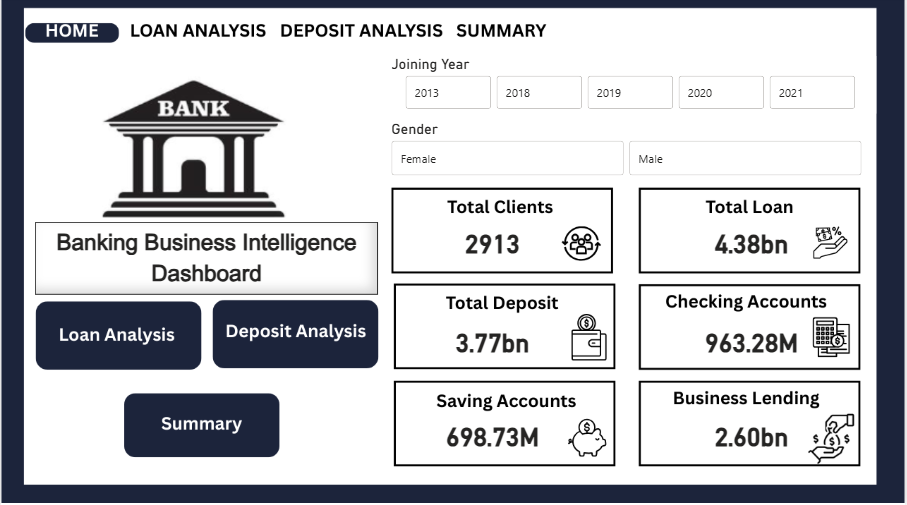

This screenshot's page, from the dashboard's own definition file:
{"tool":"powerbi","page":{"name":"Home","canvas":[1280,720],"ordinal":0},"visuals":[{"type":"card","fields":{"Values":["Count(Banking_Clients.Name)"]},"box":[624.9,319.2,142.8,55.4],"z":0},{"type":"card","fields":{"Values":["Banking_Clients.Total loan"]},"box":[992.8,319.2,142.8,55.4],"z":1000},{"type":"card","fields":{"Values":["Banking_Clients.Total deposit"]},"box":[624.9,458.6,142.8,55.4],"z":2000},{"type":"advancedSlicerVisual","title":"Gender","fields":{"Values":["Banking_Clients.GenderId"]},"box":[548.5,175.7,677.5,82.2],"z":3000},{"type":"advancedSlicerVisual","title":"Joining Year","fields":{"Values":["Banking_Clients.Year of joining"]},"box":[548.5,83.6,691.7,80.8],"z":4000},{"type":"card","fields":{"Values":["Sum(Banking_Clients.Saving Accounts)"]},"box":[624.9,593,142.8,55.4],"z":5000},{"type":"card","fields":{"Values":["Sum(Banking_Clients.Checking Accounts)"]},"box":[992.8,458.6,142.8,55.4],"z":6000},{"type":"card","fields":{"Values":["Sum(Banking_Clients.Business Lending)"]},"box":[992.8,593,142.8,55.4],"z":7000},{"type":"actionButton","box":[48.7,443.5,231.8,70.6],"z":8000},{"type":"actionButton","box":[302.4,443.5,231.8,70.6],"z":9000},{"type":"actionButton","box":[173,557.7,215,90.7],"z":10000},{"type":"actionButton","box":[172.9,24.1,215.4,48.2],"z":11000},{"type":"actionButton","box":[388.3,24.1,236.7,38.3],"z":12000},{"type":"actionButton","box":[640.6,24.1,153.1,48.2],"z":13000},{"type":"textbox","box":[48.2,318.9,486.1,103.5],"z":13001}]}

Visuals, with their boxes in screenshot pixels (x1, y1, x2, y2), scaled from the page's 1280x720 canvas onto the 907x505 screenshot:
card - Count(Banking_Clients.Name): (x1=443, y1=224, x2=544, y2=263)
card - Banking_Clients.Total loan: (x1=703, y1=224, x2=805, y2=263)
card - Banking_Clients.Total deposit: (x1=443, y1=322, x2=544, y2=361)
"Gender" advancedSlicerVisual: (x1=389, y1=123, x2=869, y2=181)
"Joining Year" advancedSlicerVisual: (x1=389, y1=59, x2=879, y2=115)
card - Sum(Banking_Clients.Saving Accounts): (x1=443, y1=416, x2=544, y2=455)
card - Sum(Banking_Clients.Checking Accounts): (x1=703, y1=322, x2=805, y2=361)
card - Sum(Banking_Clients.Business Lending): (x1=703, y1=416, x2=805, y2=455)
actionButton: (x1=35, y1=311, x2=199, y2=361)
actionButton: (x1=214, y1=311, x2=379, y2=361)
actionButton: (x1=123, y1=391, x2=275, y2=455)
actionButton: (x1=123, y1=17, x2=275, y2=51)
actionButton: (x1=275, y1=17, x2=443, y2=44)
actionButton: (x1=454, y1=17, x2=562, y2=51)
textbox: (x1=34, y1=224, x2=379, y2=296)
